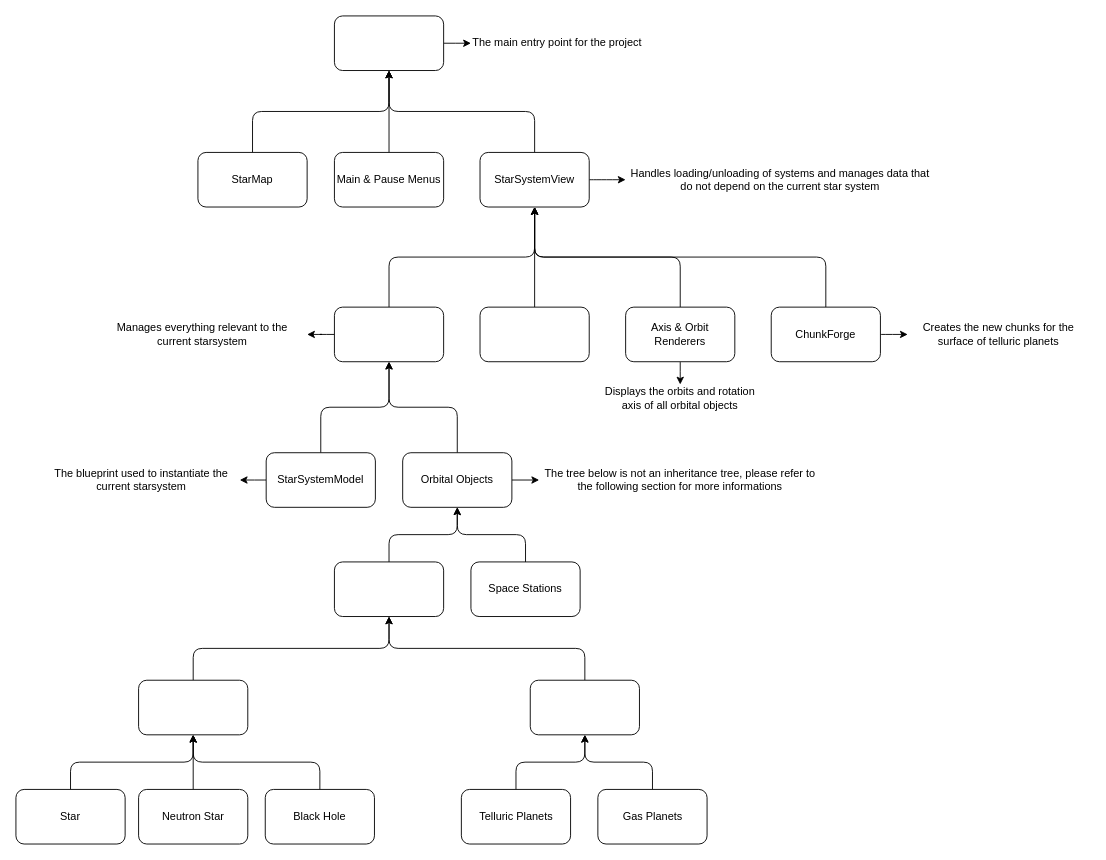
The diagram is 1106 pixels wide and 860 high, and some of its shapes have lost their labels. The centre of each missing label's shape, as x and y in pixels:
Celestial Bodies: the point at 389,589
CosmosJourneyer: the point at 389,43
Planets: the point at 584,707
PostProcessManager: the point at 534,334
StarSystemController: the point at 389,334
Stellar Objects: the point at 193,707
